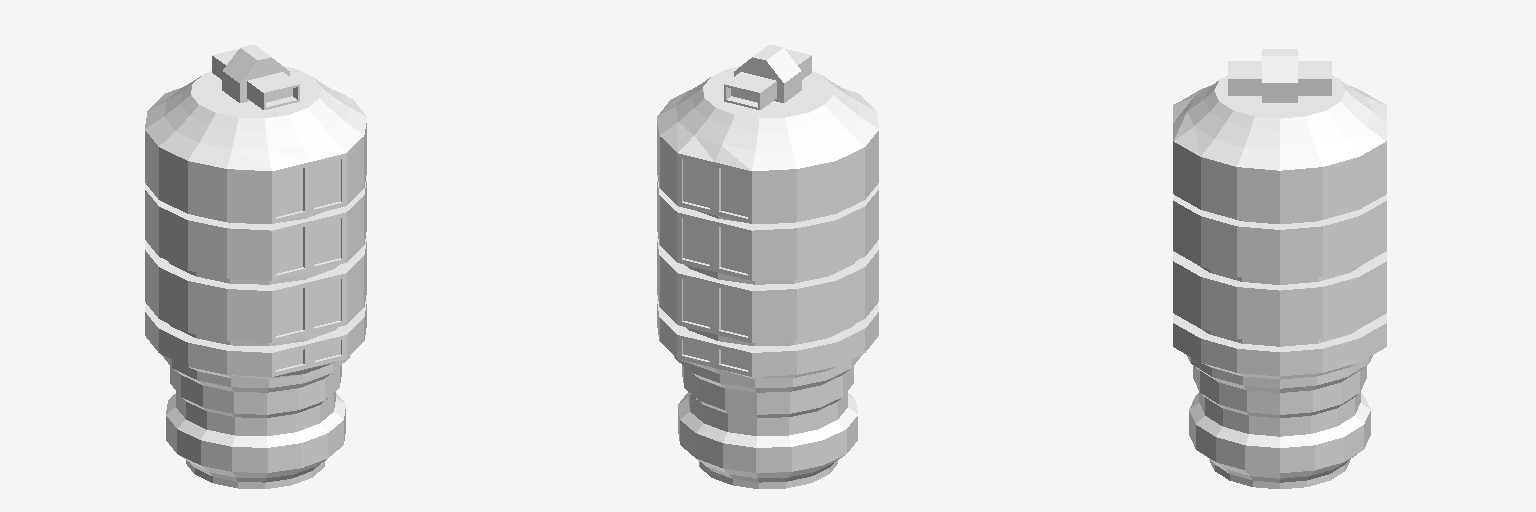
Rendered from cryogrenade.obj.
3 renders of one model, left to right at view 1: azimuth 30°, elevation 25°; view 2: azimuth 150°, elevation 25°; view 3: azimuth 270°, elevation 25°, orthographic.
Parts seen in each view (by area): view 1: Cylinder1, Cube3; view 2: Cylinder1, Cube3; view 3: Cylinder1, Cube3.
Part boxes in pixels (bbox=[...]): Cylinder1: bbox=[145, 66, 366, 488]; Cube3: bbox=[212, 44, 299, 109]; Cylinder1: bbox=[657, 66, 878, 488]; Cube3: bbox=[724, 44, 811, 109]; Cylinder1: bbox=[1173, 75, 1386, 488]; Cube3: bbox=[1228, 49, 1331, 102].
Size of the model in its own units: 0.6316 by 1.26 by 0.5995.